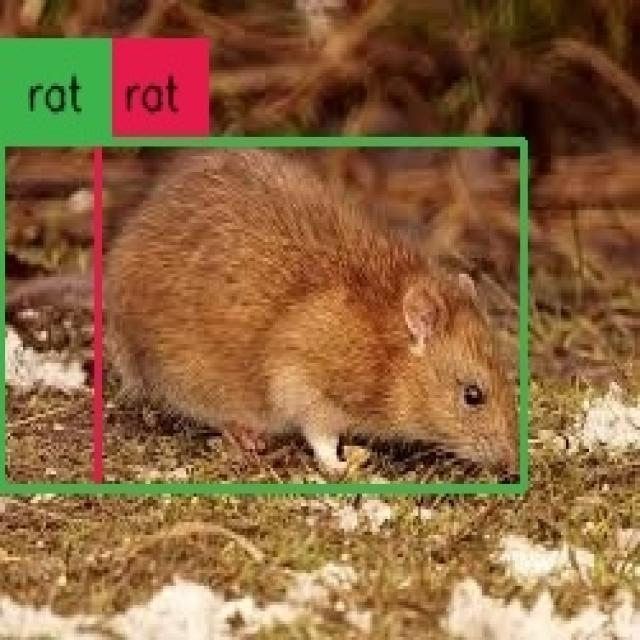rat: (0, 140, 525, 487), (100, 140, 526, 487)
